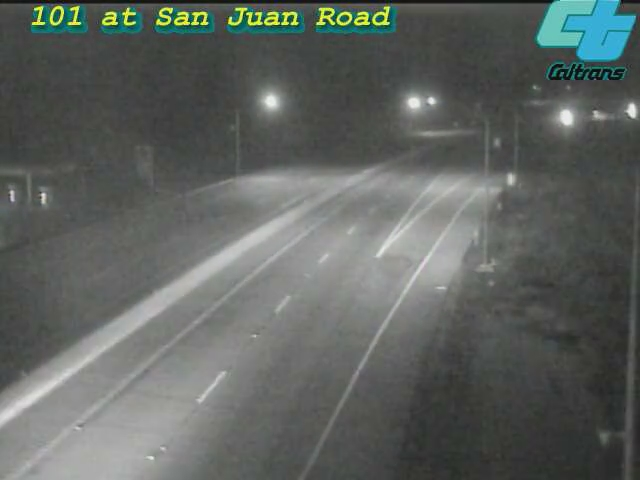vehicle: (578, 92, 628, 142), (542, 92, 592, 142), (606, 86, 640, 136)
